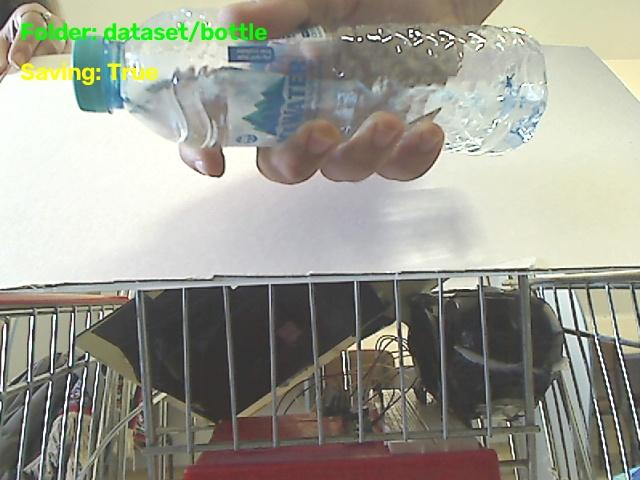Bottle: (73, 10, 546, 153)
